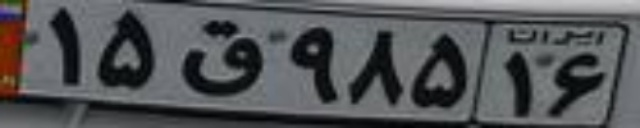1: (48, 7, 80, 86), (499, 49, 534, 118)
5: (95, 9, 153, 89), (411, 33, 469, 108)
6: (548, 52, 607, 117)
8: (347, 29, 404, 105)
9: (289, 25, 333, 105)
ghaf: (179, 19, 265, 96)
